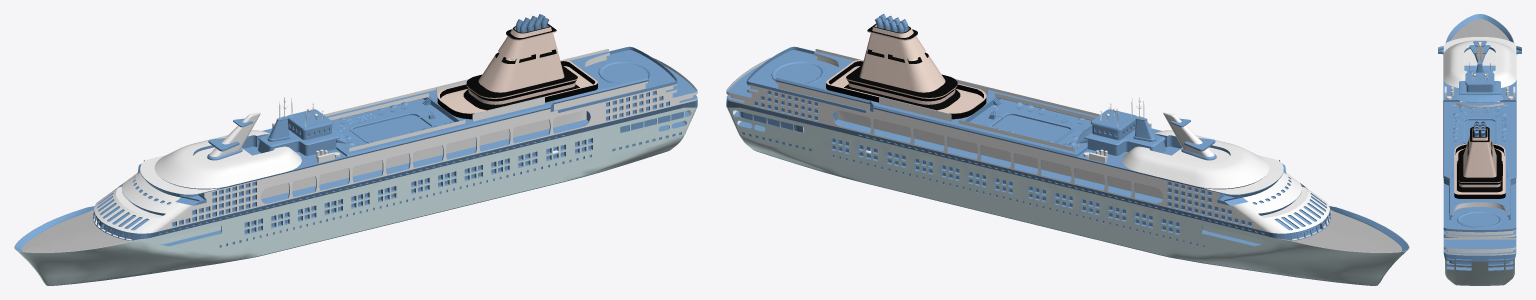
3 views of the same model, side by side, from view 1: azimuth 30°, elevation 25°; view 2: azimuth 150°, elevation 25°; view 3: azimuth 270°, elevation 25° (orthographic). The views are drawn at different scales.
Visible parts, largest first — view 1: 3DSMeshMatrix; view 2: 3DSMeshMatrix; view 3: 3DSMeshMatrix.
Boxes of the visible parts, bbox=[...] form: 3DSMeshMatrix: bbox=[14, 14, 697, 285]; 3DSMeshMatrix: bbox=[726, 14, 1409, 285]; 3DSMeshMatrix: bbox=[1438, 14, 1521, 285].
Bounding box in the file's own units: 1799 × 386 × 258.
